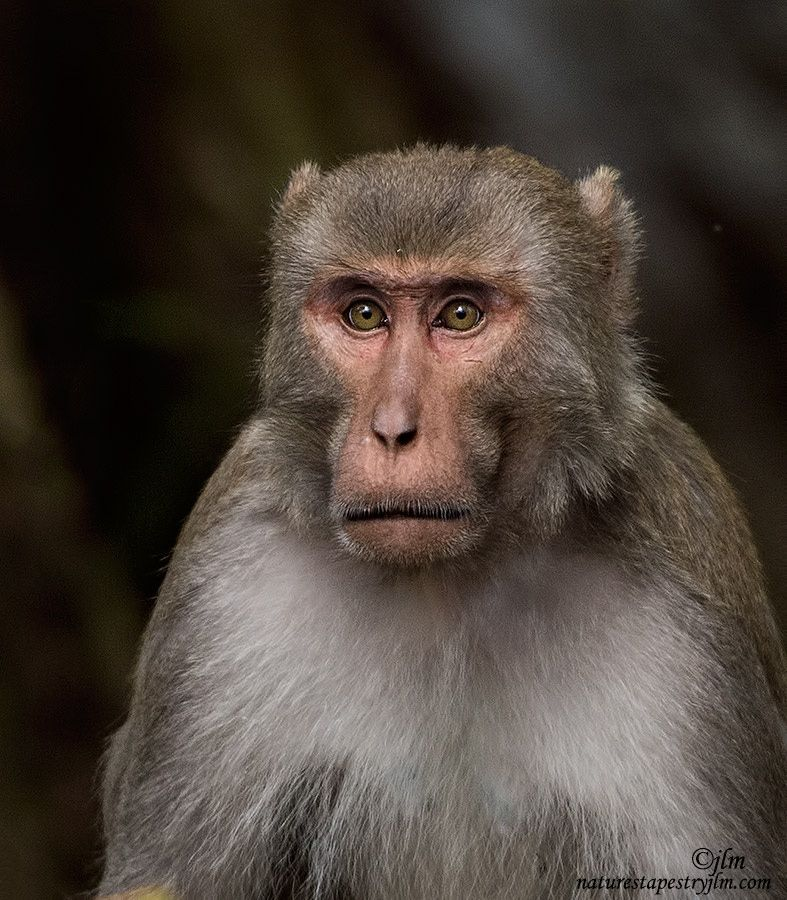monkey: (89, 118, 787, 900)
